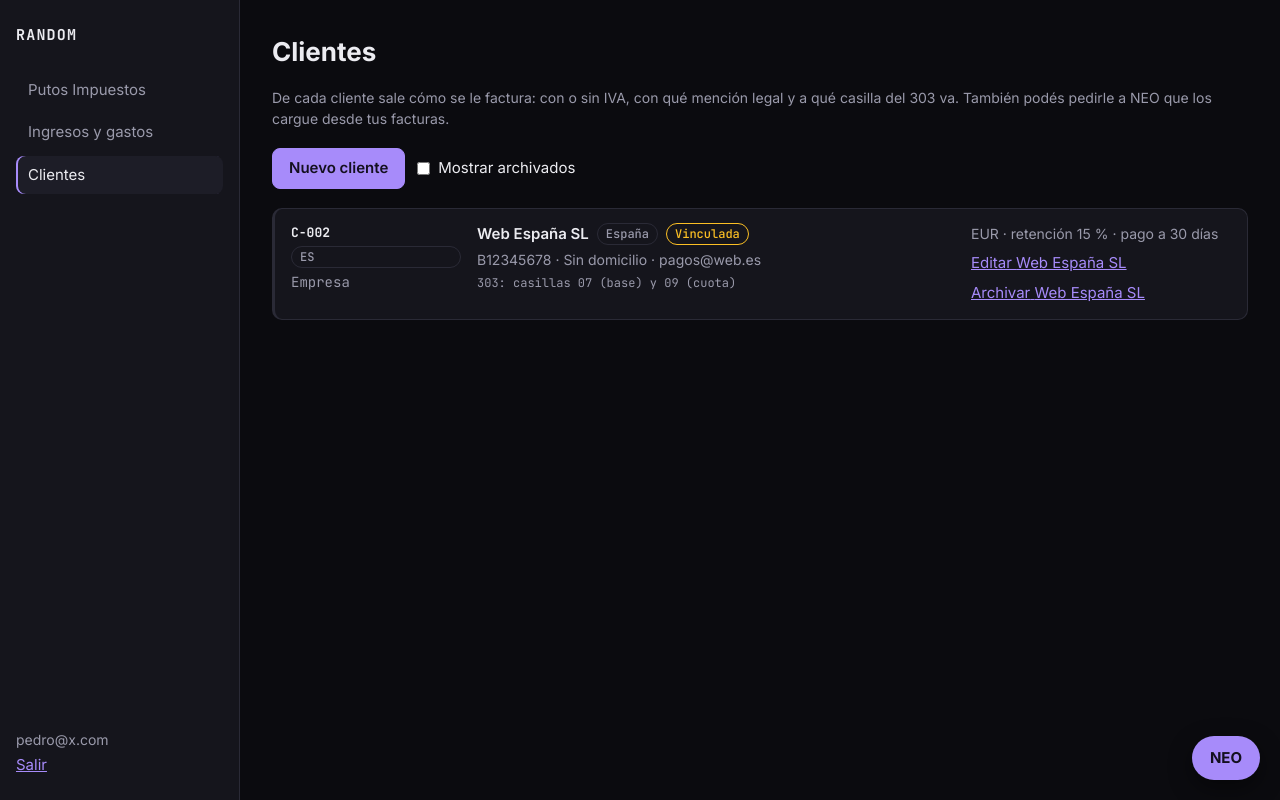
clientes › archiva, muestra archivados y reactiva
Step 1. Click the button "Archivar Web España SL" → (1058, 293), box [971,282,1145,304]
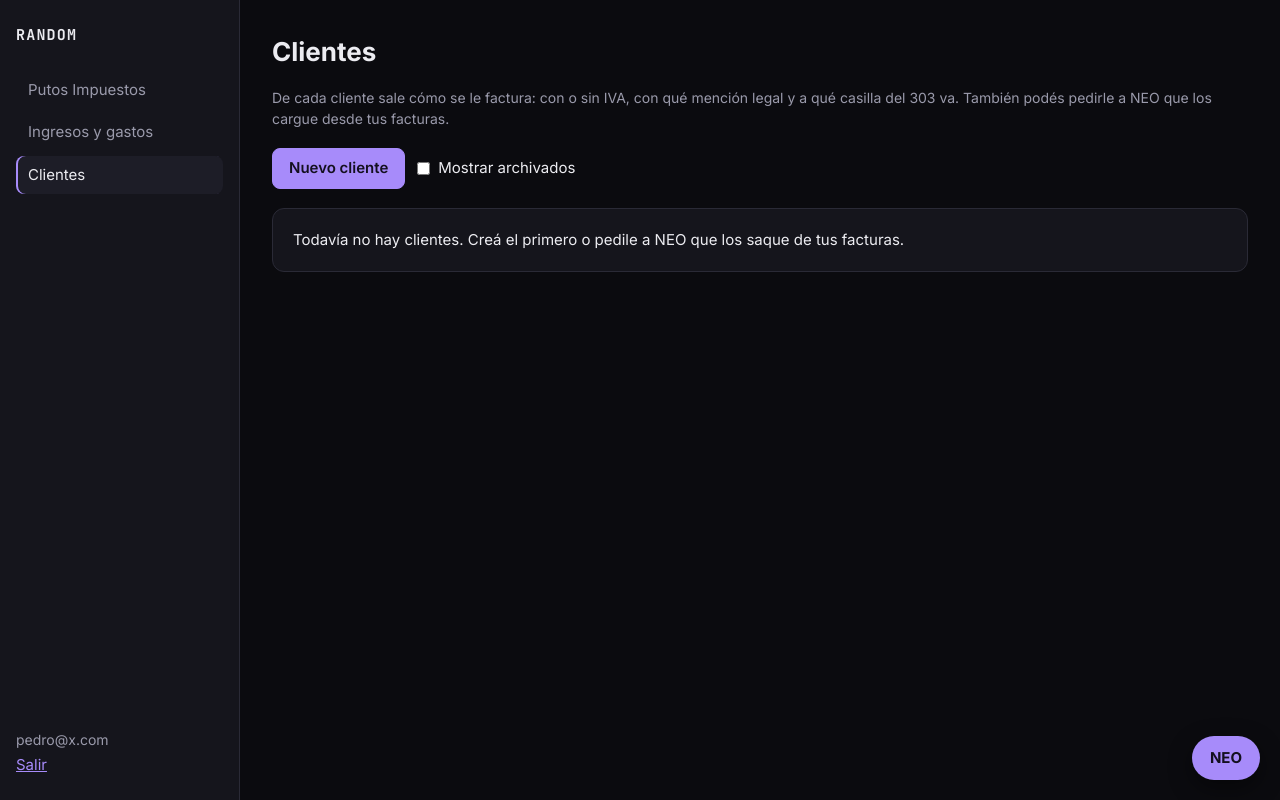
Now the text "Todavía no hay clientes" is shown, box [293,230,904,248]
Step 2. Click the checkbox labelled "Mostrar archivados" → (424, 168), box [417,162,430,175]
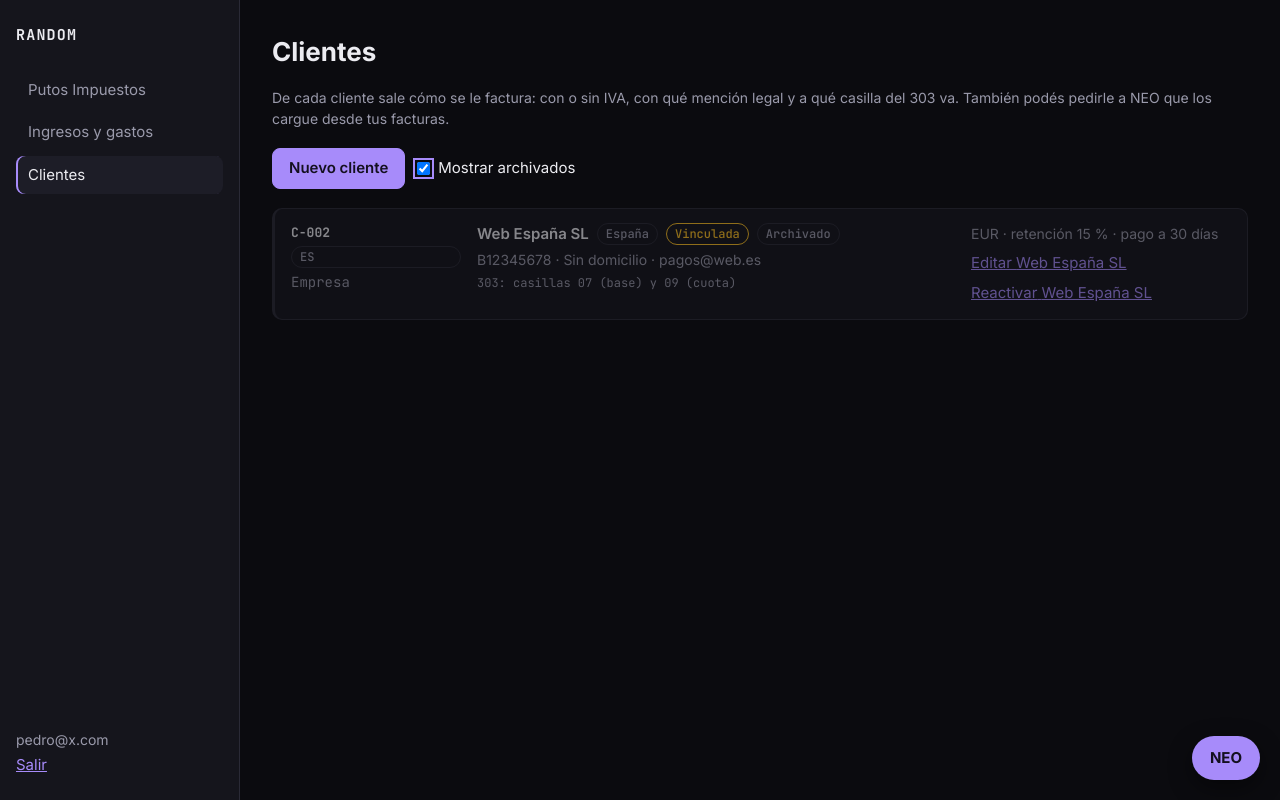
Now the text "Archivado" is shown, box [757,223,840,245]
Step 3. Click the button "Reactivar Web España SL" → (1062, 293), box [971,282,1152,304]
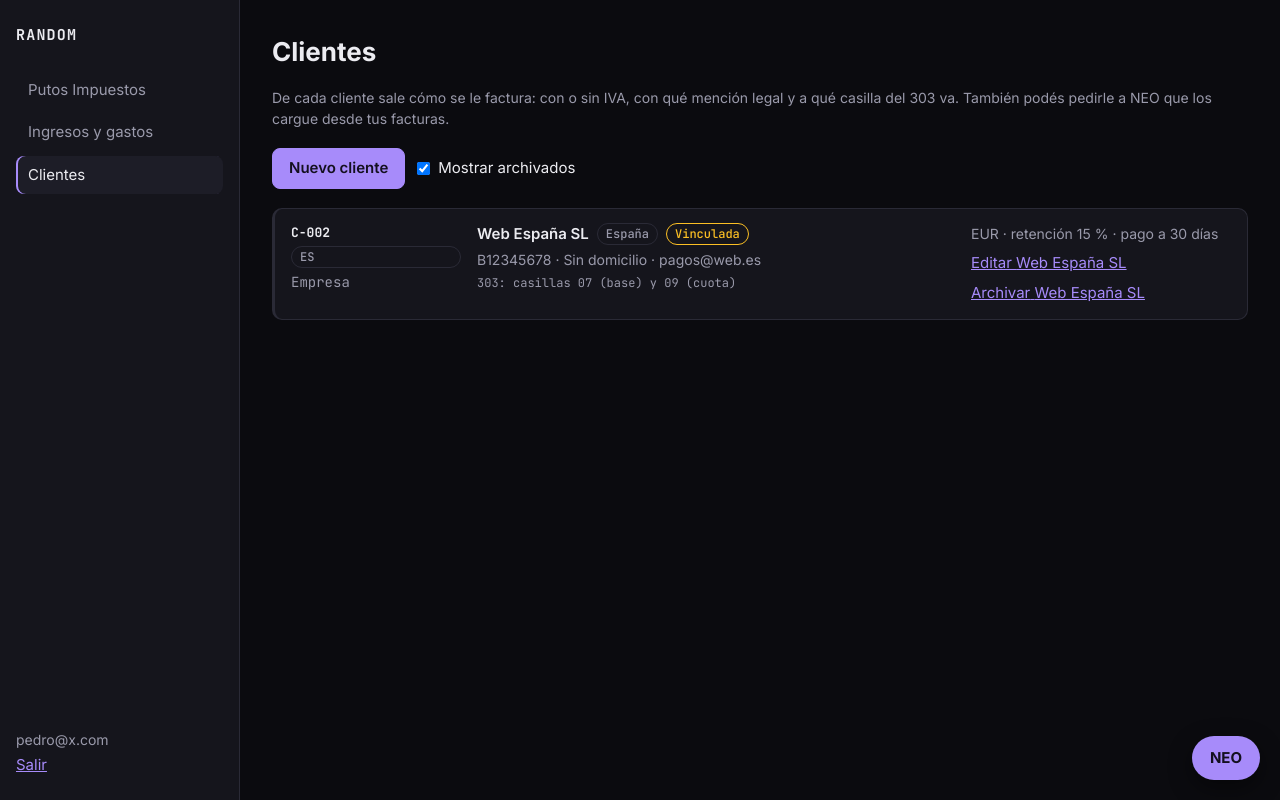
Now the button "Archivar Web España SL" is shown, box [971,282,1145,304]
